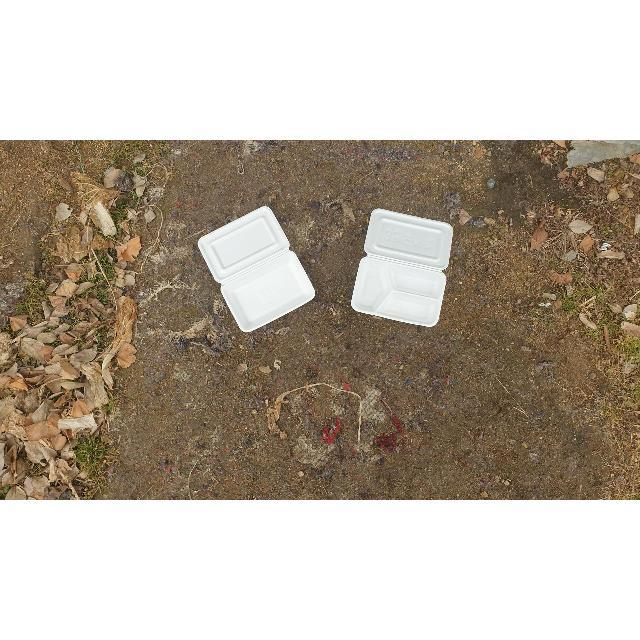Plastico descartable: (197, 206, 316, 334), (351, 210, 452, 330)
